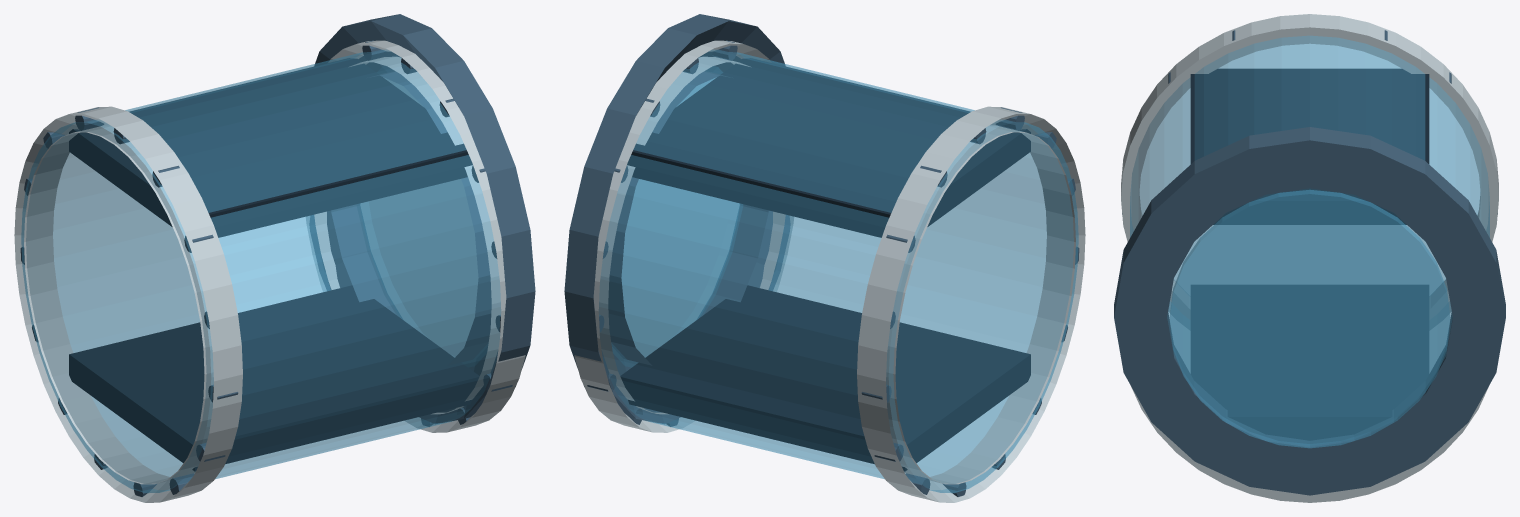
The model's file is 47_L75_RapidThermalActivationChamber.fbx.
3 renders of one model, left to right at view 1: azimuth 30°, elevation 25°; view 2: azimuth 150°, elevation 25°; view 3: azimuth 270°, elevation 25°, orthographic. The views are drawn at different scales.
Parts seen in each view (by area): view 1: RapidThermalActivationChamber, RapidThermalActivationChamber_Part_0033, RapidThermalActivationChamber_Part_0034; view 2: RapidThermalActivationChamber, RapidThermalActivationChamber_Part_0033, RapidThermalActivationChamber_Part_0034; view 3: RapidThermalActivationChamber, RapidThermalActivationChamber_Part_0033, RapidThermalActivationChamber_Part_0034.
Part boxes in pixels (bbox=[...]): RapidThermalActivationChamber: bbox=[14, 40, 525, 502]; RapidThermalActivationChamber_Part_0033: bbox=[309, 14, 535, 423]; RapidThermalActivationChamber_Part_0034: bbox=[360, 78, 477, 357]; RapidThermalActivationChamber: bbox=[574, 40, 1085, 502]; RapidThermalActivationChamber_Part_0033: bbox=[564, 14, 790, 423]; RapidThermalActivationChamber_Part_0034: bbox=[622, 78, 739, 357]; RapidThermalActivationChamber: bbox=[1121, 14, 1498, 502]; RapidThermalActivationChamber_Part_0033: bbox=[1114, 127, 1505, 495]; RapidThermalActivationChamber_Part_0034: bbox=[1169, 190, 1450, 448].
Size of the model in its own units: 134 by 151 by 148.
